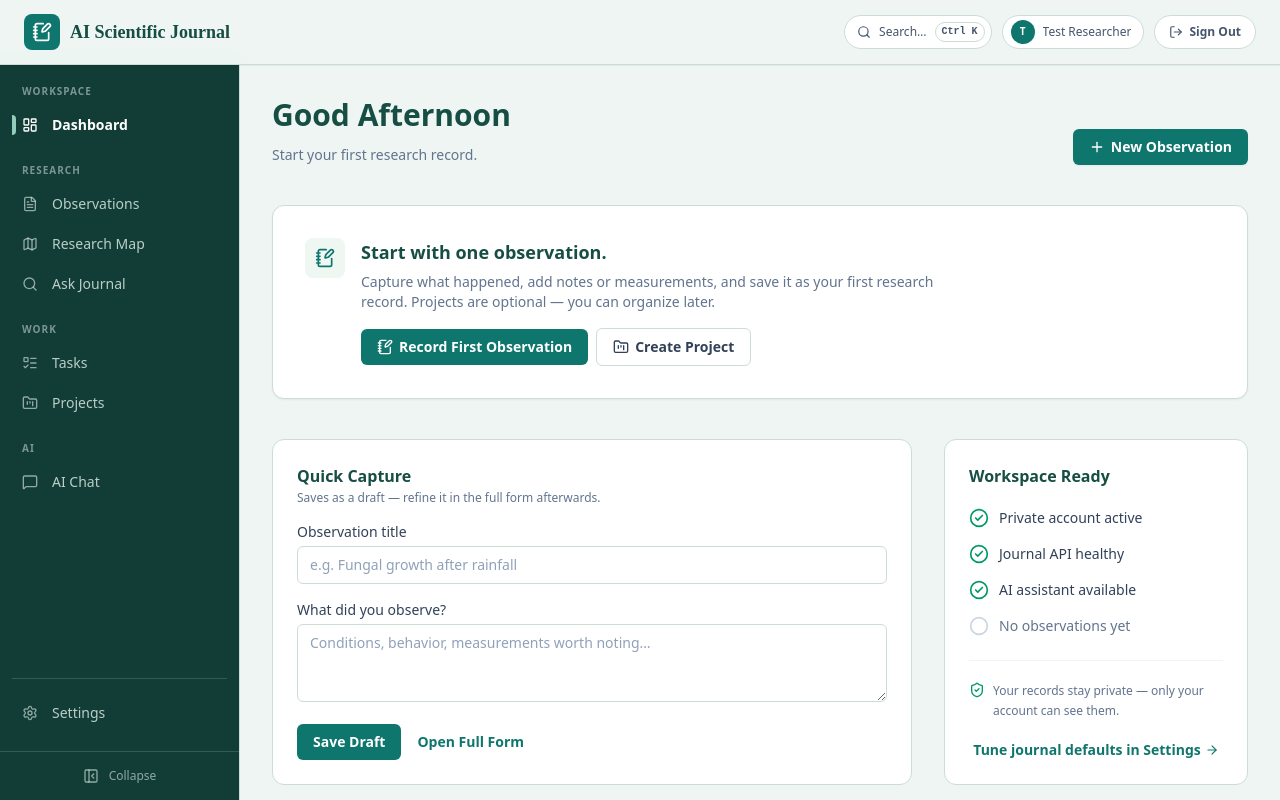
Test: DashboardPage — new-user state (dashboard refactor 2026-09-07) › blocks empty quick-capture submission with inline validation
Click the button "Save Draft" at point(349, 742), box x1=297 y1=724 x2=401 y2=760
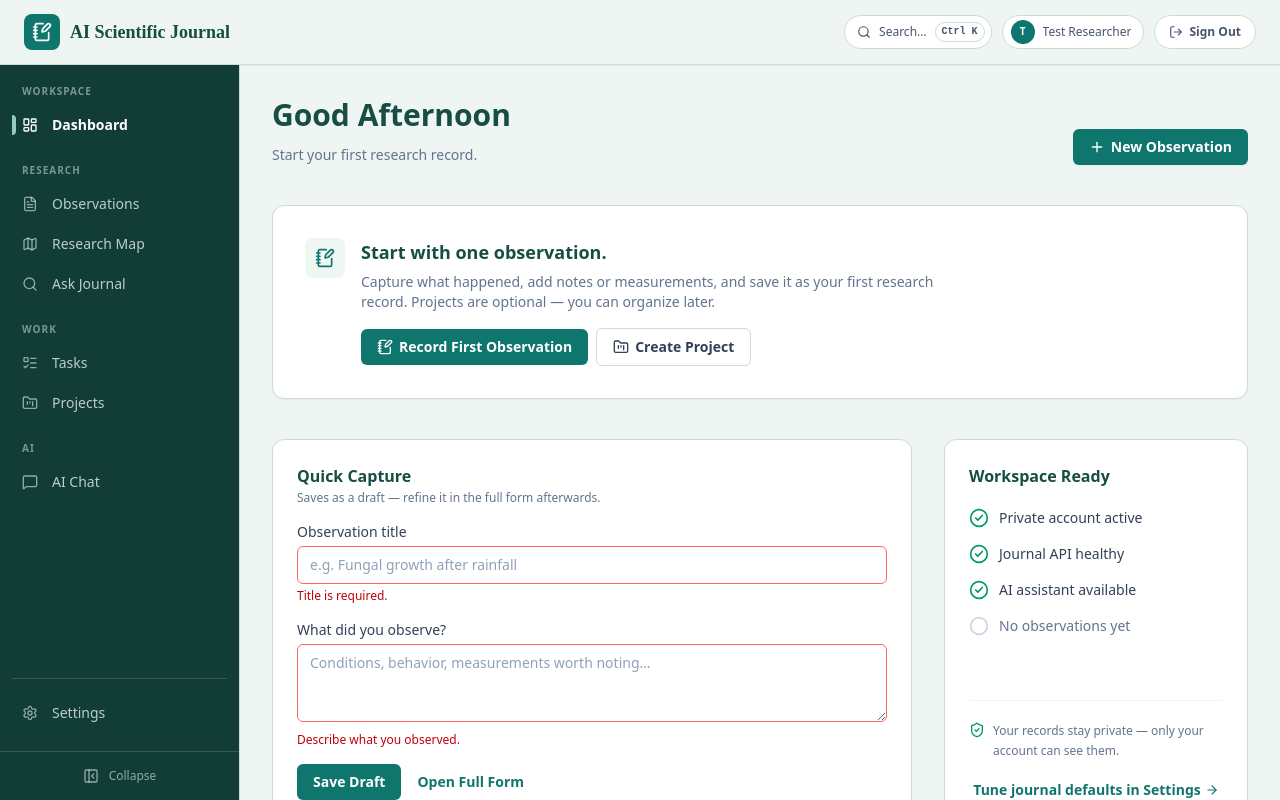
Now the text "Title is required." is shown, box x1=297 y1=587 x2=388 y2=604
Now the text "Describe what you observed." is shown, box x1=297 y1=731 x2=460 y2=748
